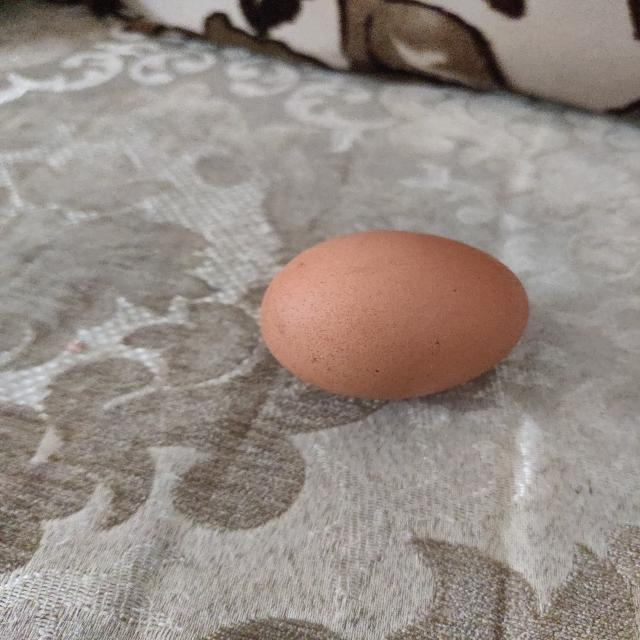egg: (258, 228, 531, 399)
